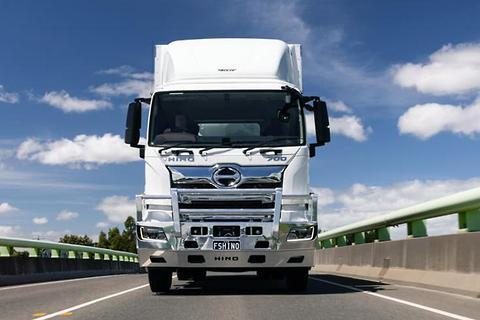truck: (124, 37, 329, 293)
